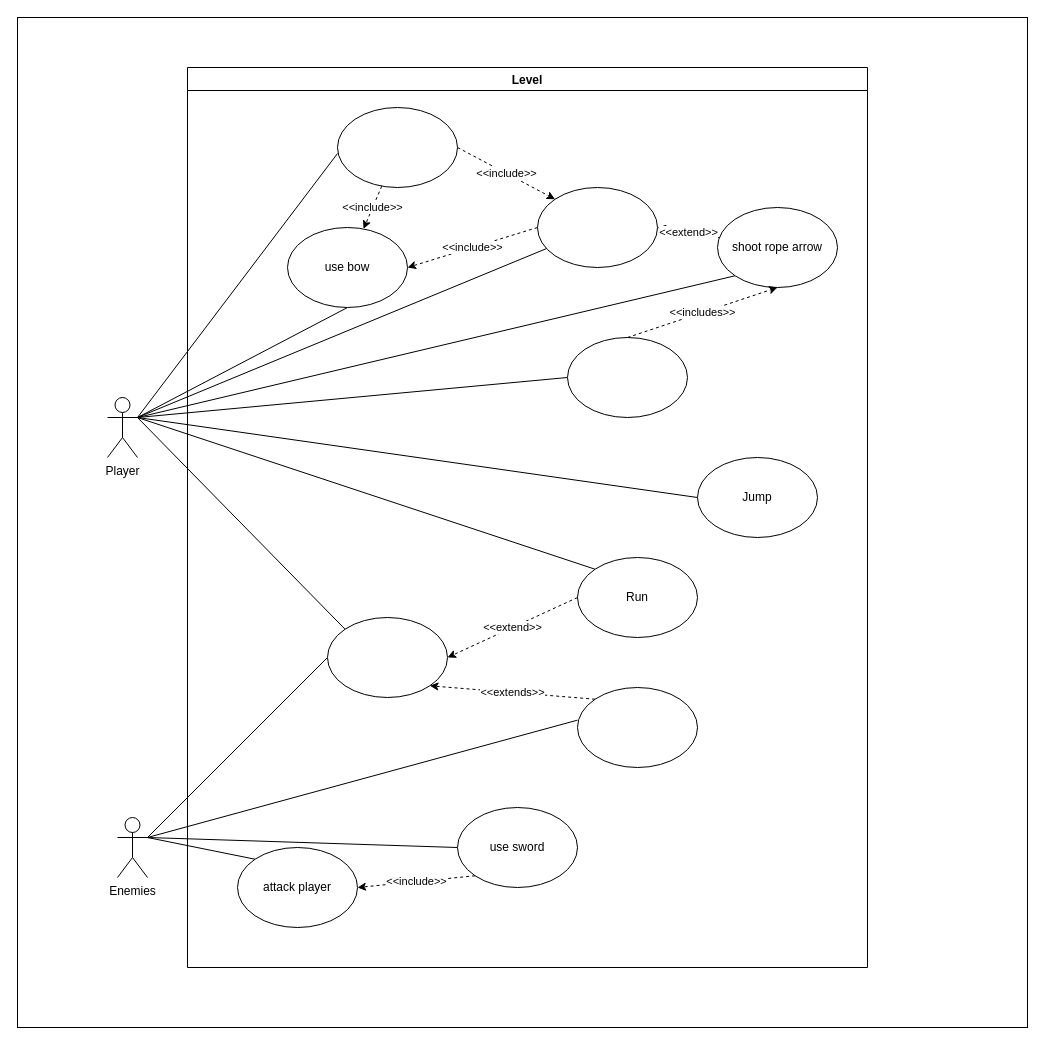
This 1045x1045 diagram has some shape labels left out. Here are the shapes that lost their labels. From the top down, the centre of each, then its label:
the point at 397,147: kill enemy
the point at 597,227: shoot arrow
the point at 627,377: climb rope
the point at 387,657: Walk
the point at 637,727: patrols
